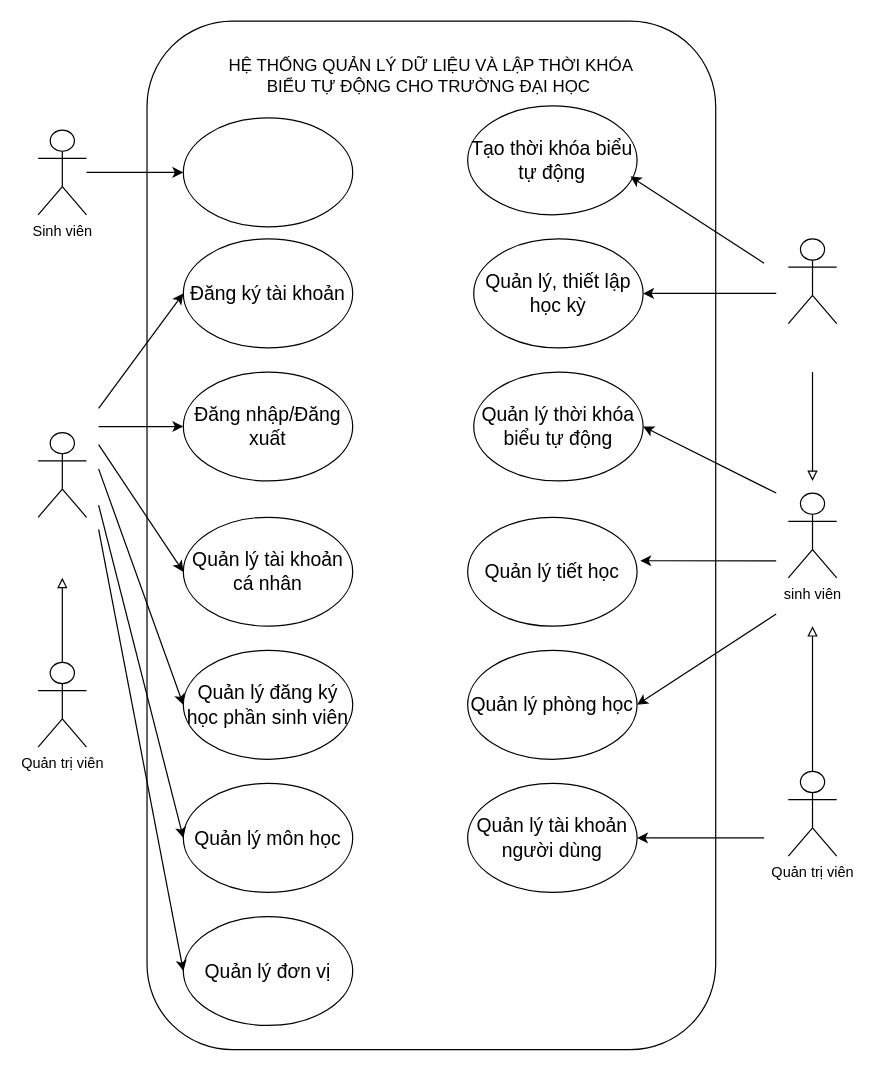
Some shapes in this 874 by 1071 pixel diagram are drawn without their labels. The shapes that lost their labels are listed below. From the top down, each one's centre as x and y in pixels, then its label:
At pixel 267 172: "Đăng ký học phần".
At pixel 812 281: "giáo vụ".
At pixel 62 474: "Sinh viên, giáo vụ".
